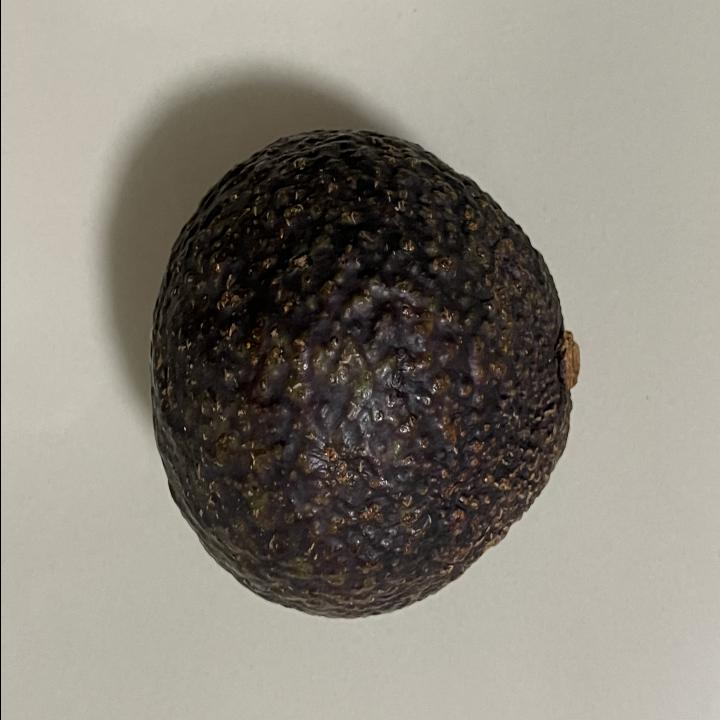Level2: (143, 120, 591, 630)
